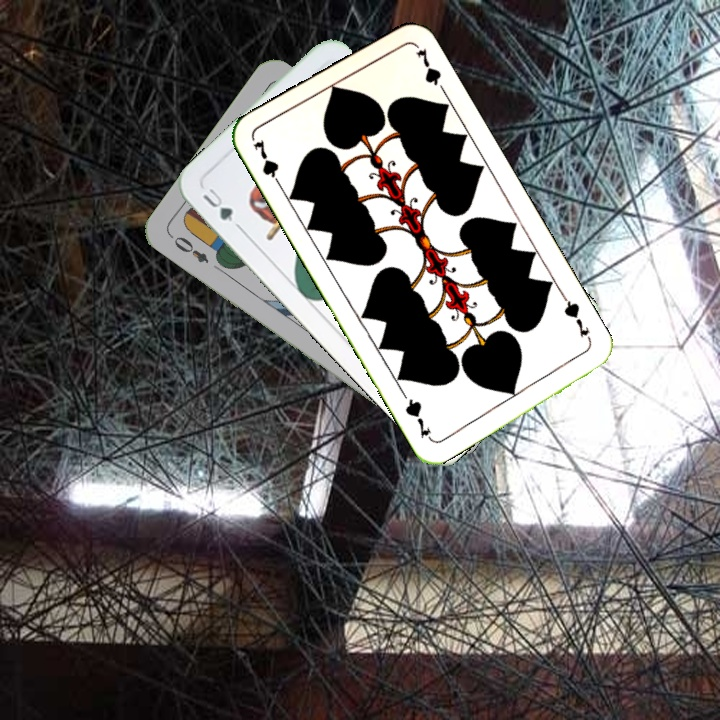EO: (170, 232, 212, 266)
G7: (249, 135, 285, 191), (558, 292, 595, 346)
GU: (198, 184, 243, 231)
